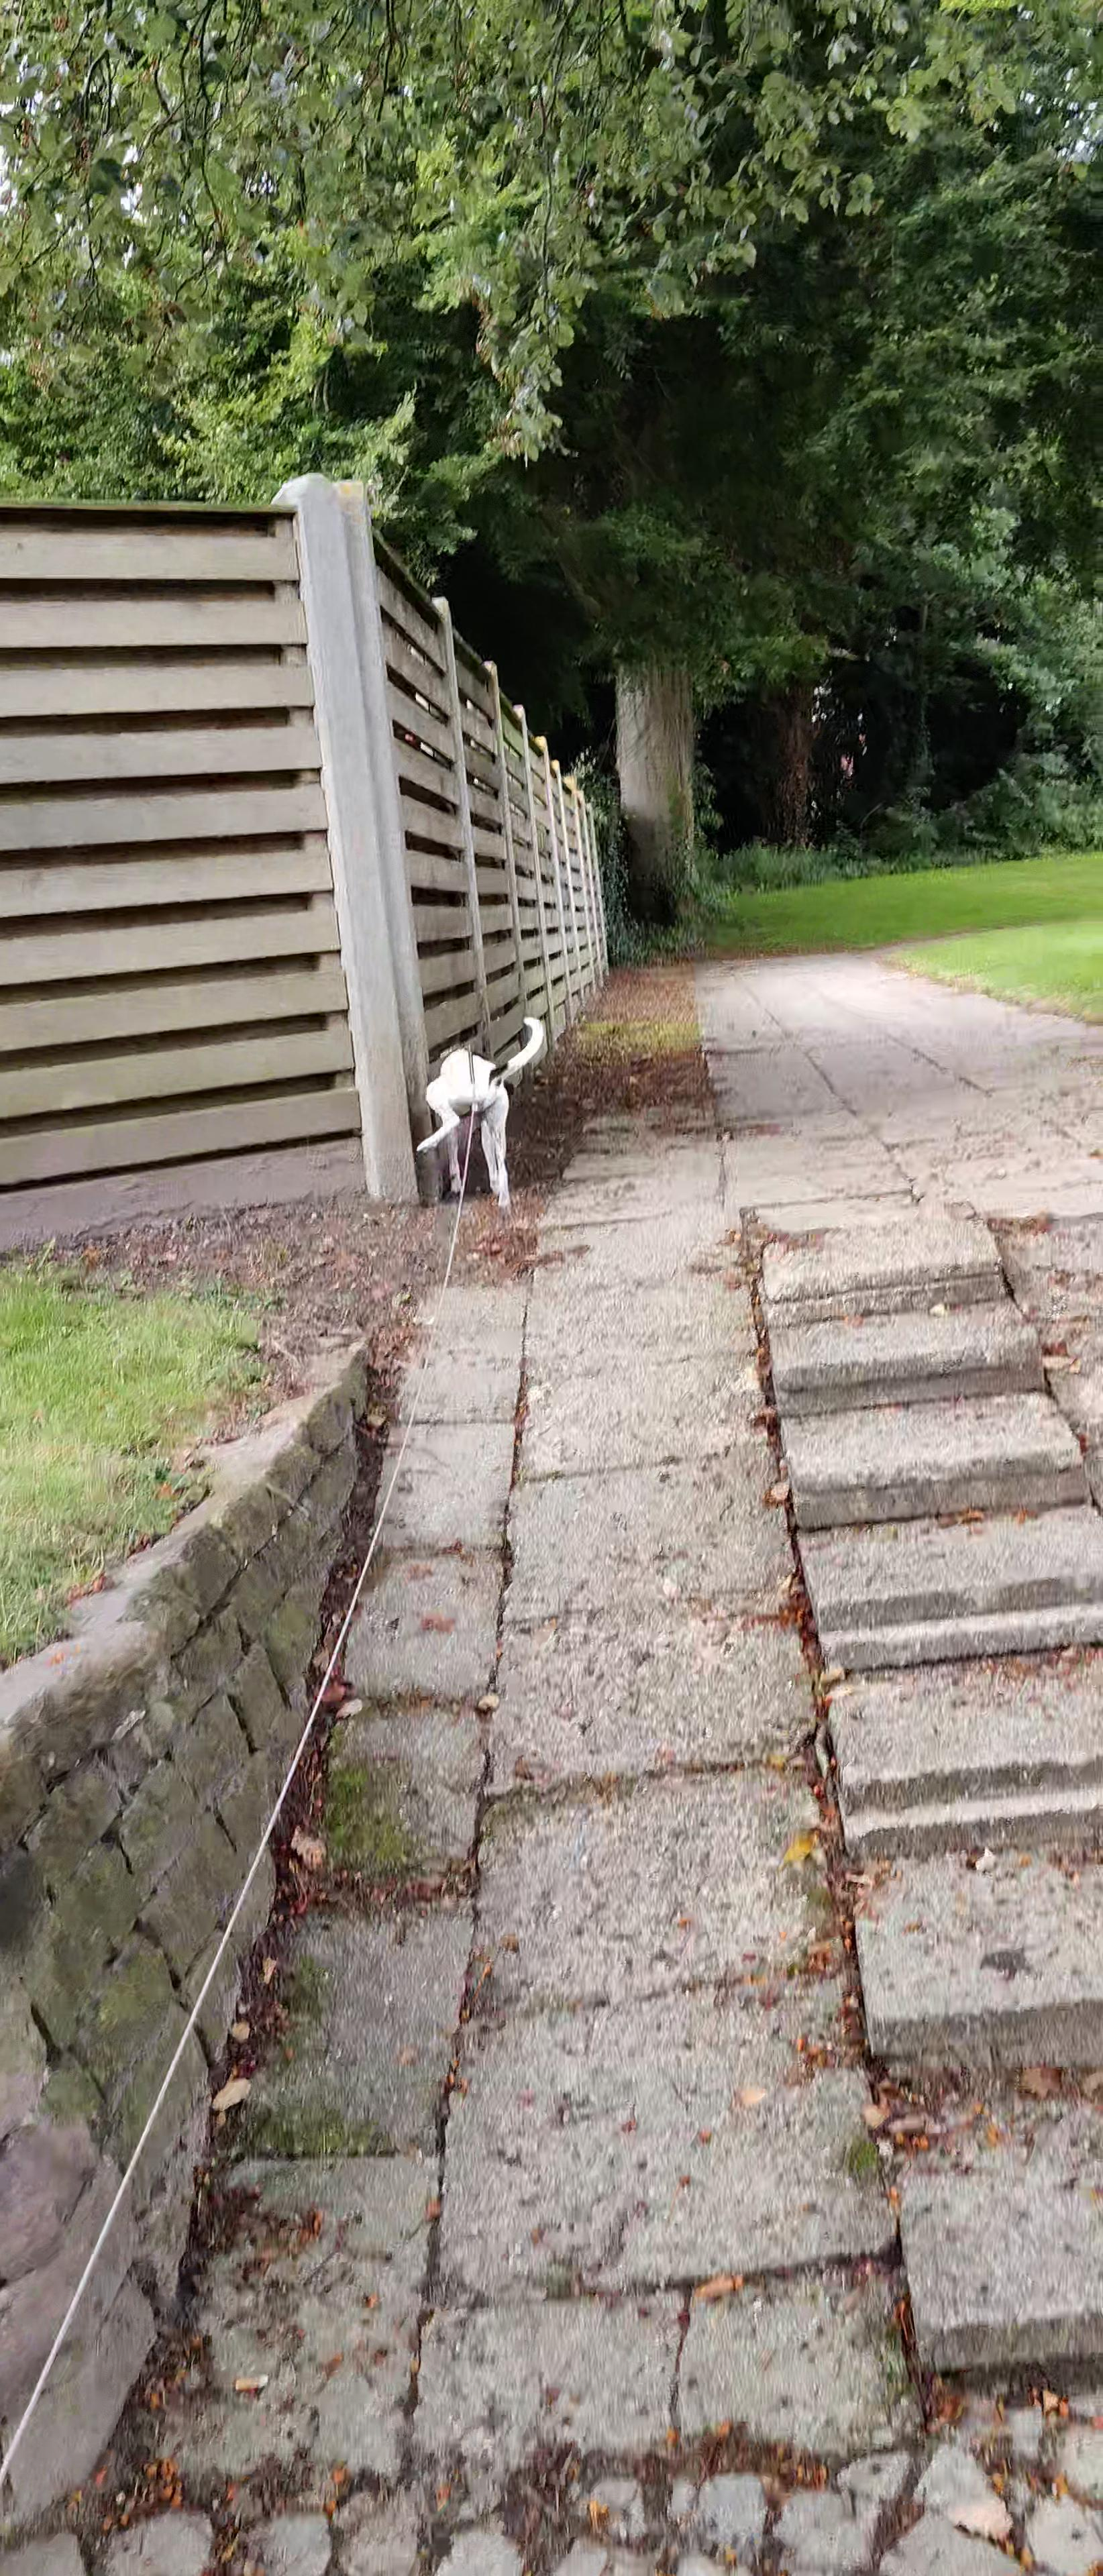Dog: (413, 1014, 547, 1209)
